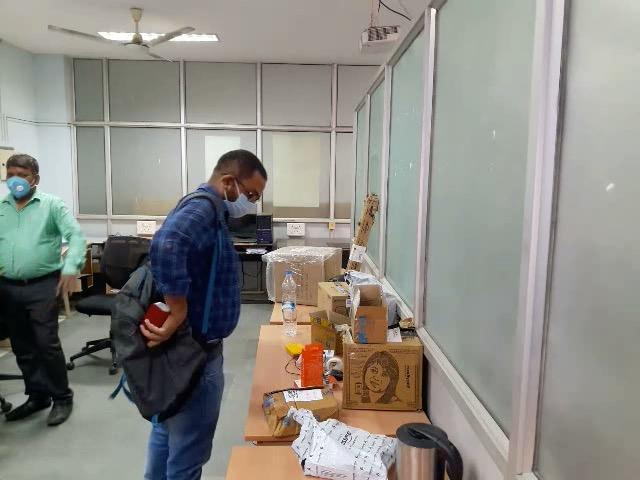shoplifting: (70, 234, 234, 456)
